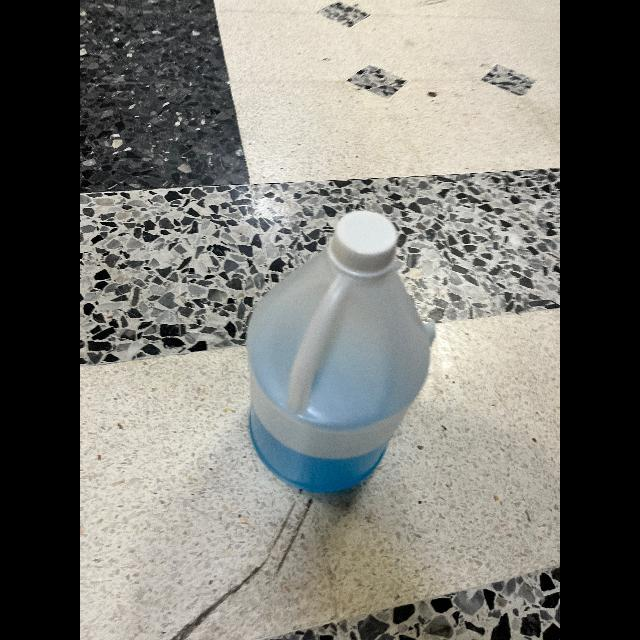chemical_plastic_gallon: (232, 210, 446, 506)
